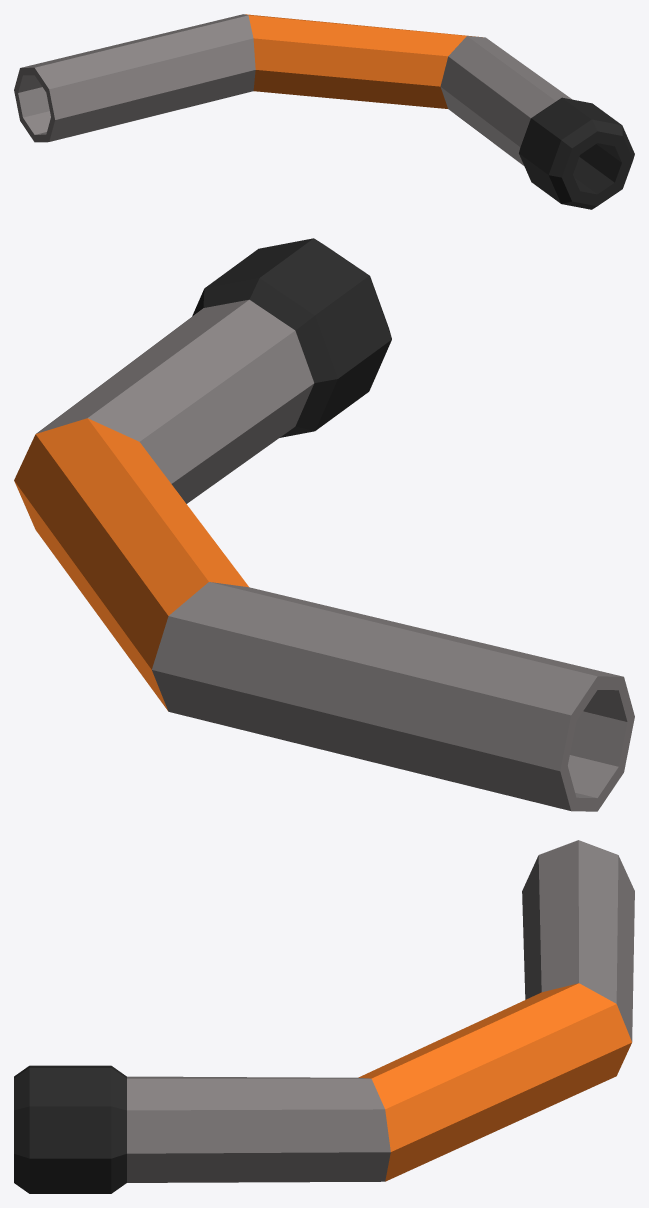
Rendered from scifi_scifi-tube-curve.fbx.
3 renders of one model, top to bottom at view 1: azimuth 30°, elevation 25°; view 2: azimuth 150°, elevation 25°; view 3: azimuth 270°, elevation 25°, orthographic. The views are drawn at different scales.
Parts seen in each view (by area): view 1: scifi_scifi_tube_curve; view 2: scifi_scifi_tube_curve; view 3: scifi_scifi_tube_curve.
Boxes of the visible parts, x1,y1,x2,y2 form: scifi_scifi_tube_curve: [14, 14, 634, 209]; scifi_scifi_tube_curve: [14, 238, 634, 811]; scifi_scifi_tube_curve: [14, 840, 634, 1193].
Bounding box in the file's own units: 200 × 43.18 × 196.
